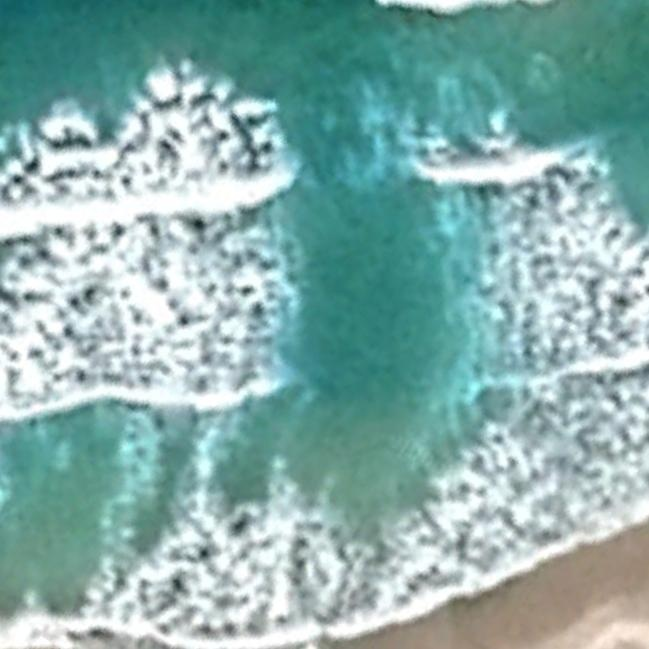rip_current: (235, 74, 479, 526)
